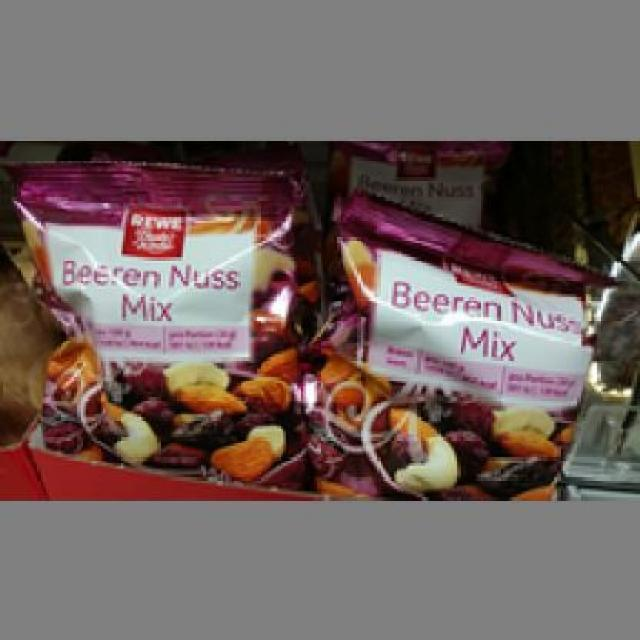Nuts: (0, 153, 309, 490), (306, 188, 594, 494)
